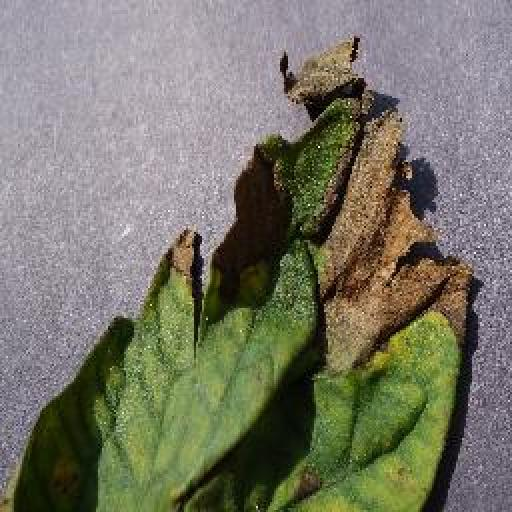Late Blight: (0, 28, 476, 512)
